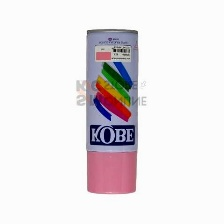aerosol_cans: (80, 27, 141, 198)
